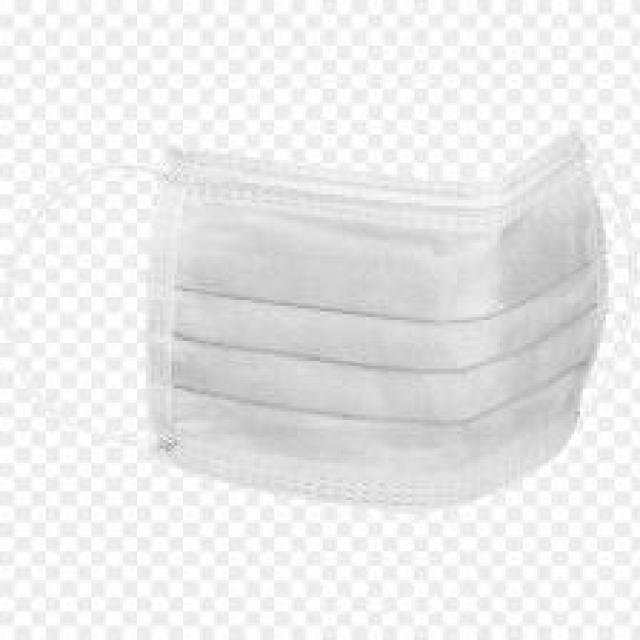Mask: (58, 120, 640, 530)
